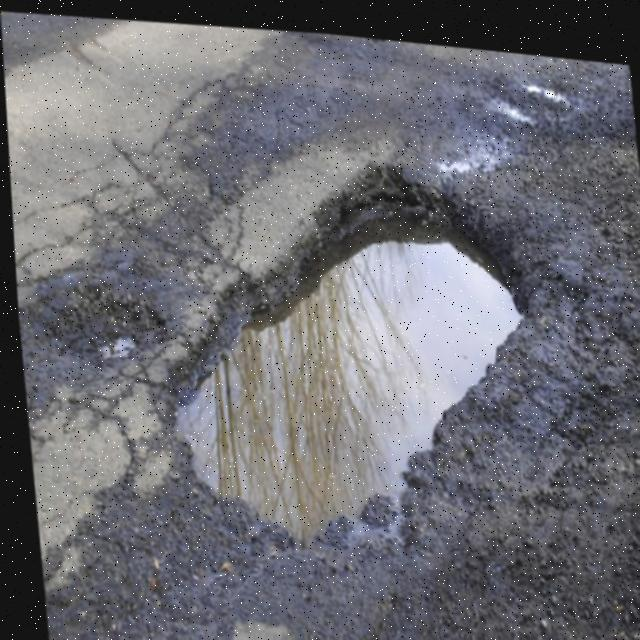Pothole: (124, 148, 551, 574), (12, 63, 282, 330)
